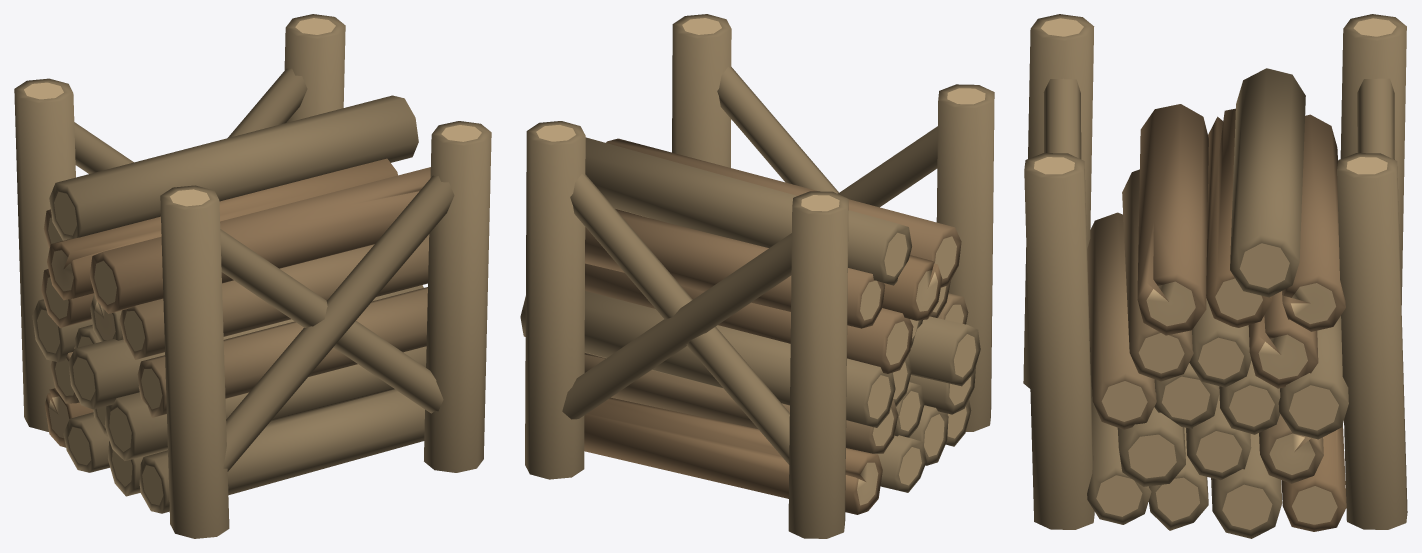
The model's file is rpgpp_ag_log_wood_02c.fbx.
The picture shows the model from 3 angles, left to right: view 1: azimuth 30°, elevation 25°; view 2: azimuth 150°, elevation 25°; view 3: azimuth 270°, elevation 25°; orthographic projection. The views are drawn at different scales.
Parts seen in each view (by area): view 1: rpgpp_ag_log_wood_02c; view 2: rpgpp_ag_log_wood_02c; view 3: rpgpp_ag_log_wood_02c.
Part boxes in pixels (<box>): rpgpp_ag_log_wood_02c: <box>14,14,491,538</box>; rpgpp_ag_log_wood_02c: <box>520,14,994,538</box>; rpgpp_ag_log_wood_02c: <box>1023,14,1407,538</box>.
Size of the model in its own units: 2.29 by 1.98 by 1.95.
